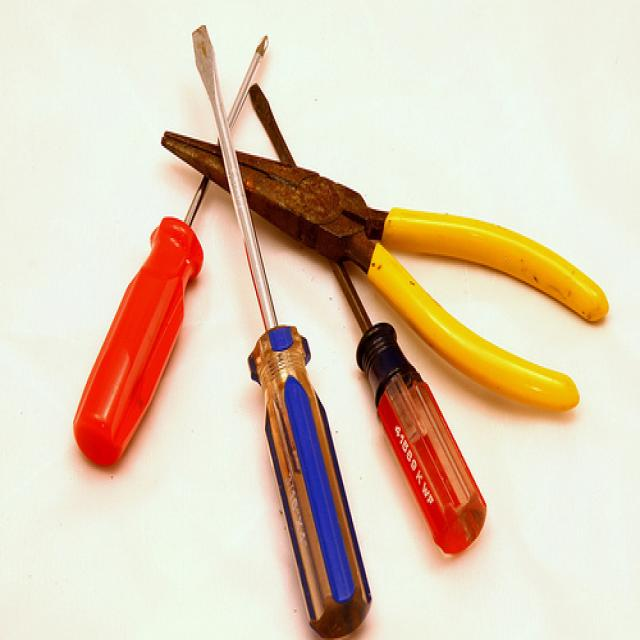screw driver: (168, 12, 404, 640)
